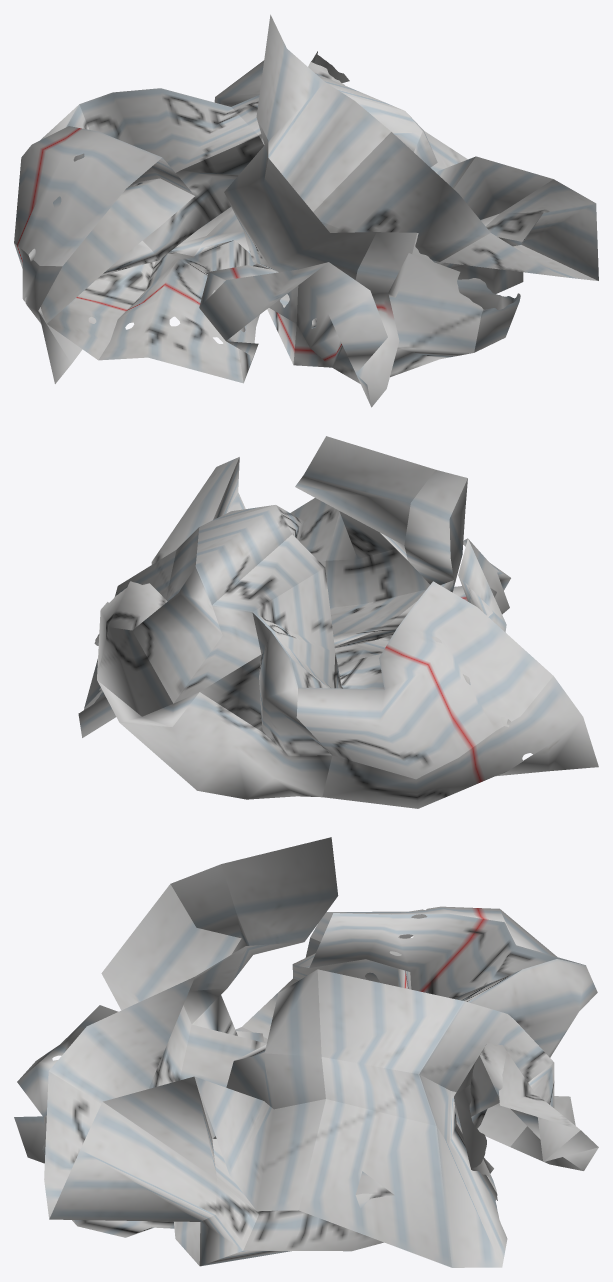
The model's file is SM_PaperBall_01.fbx.
3 renders of one model, top to bottom at view 1: azimuth 30°, elevation 25°; view 2: azimuth 150°, elevation 25°; view 3: azimuth 270°, elevation 25°, orthographic. The views are drawn at different scales.
Parts seen in each view (by area): view 1: SM_PaperBall_01_LOD0; view 2: SM_PaperBall_01_LOD0; view 3: SM_PaperBall_01_LOD0.
Part boxes in pixels (x1,y1,x2,y2): SM_PaperBall_01_LOD0: (14,14,598,407); SM_PaperBall_01_LOD0: (78,436,598,808); SM_PaperBall_01_LOD0: (14,837,598,1267).
Bounding box in the file's own units: 19.19 × 17.91 × 11.39.
Materials: 1 (1 with a texture image).
